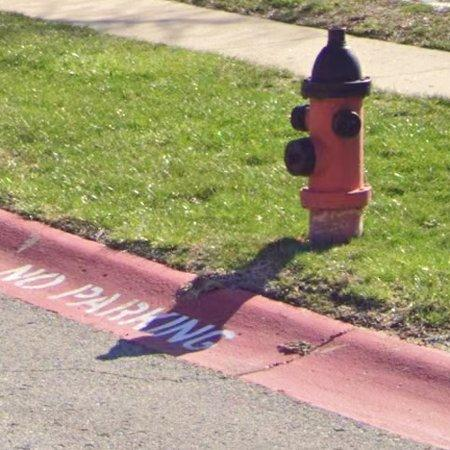a fire hydrant: (285, 27, 372, 246)
